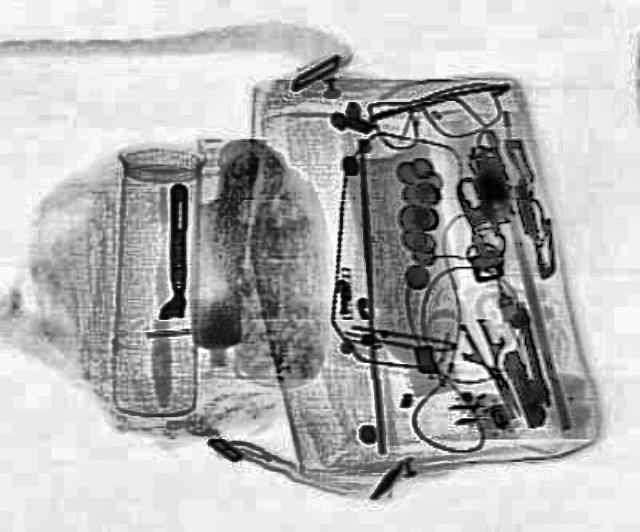Knife: (446, 314, 538, 424)
